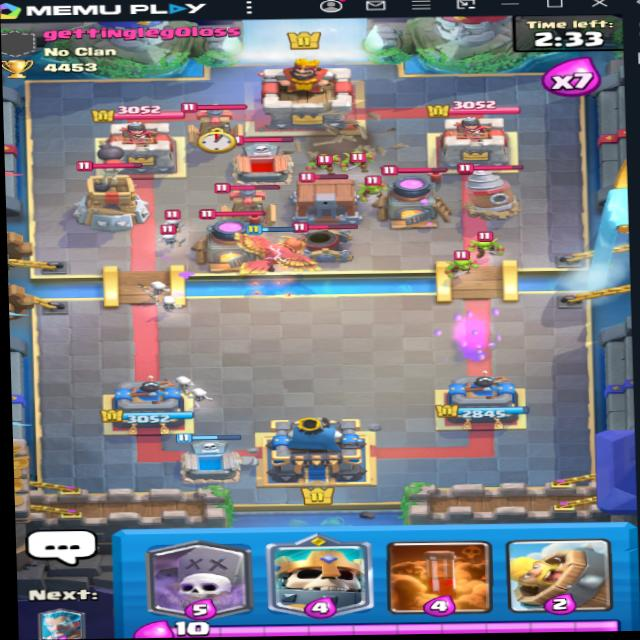bomb-tower: (67, 157, 153, 227)
furnace: (379, 162, 453, 231), (197, 206, 273, 268)
goblin: (441, 247, 478, 278), (471, 228, 508, 256), (353, 173, 391, 200), (307, 149, 342, 171), (342, 150, 379, 169)
goblin-cage: (282, 171, 363, 225)
goblin-drill: (455, 161, 525, 220)
mortar: (288, 220, 360, 265)
skeleton: (151, 224, 186, 250), (165, 205, 194, 223)
tesla: (204, 175, 279, 231), (175, 100, 256, 146)
tombstone: (222, 131, 300, 182)
